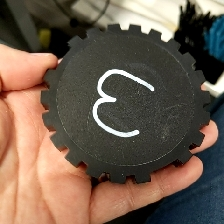gear: (39, 21, 212, 185)
missing: (132, 148, 193, 185), (43, 34, 82, 87)
